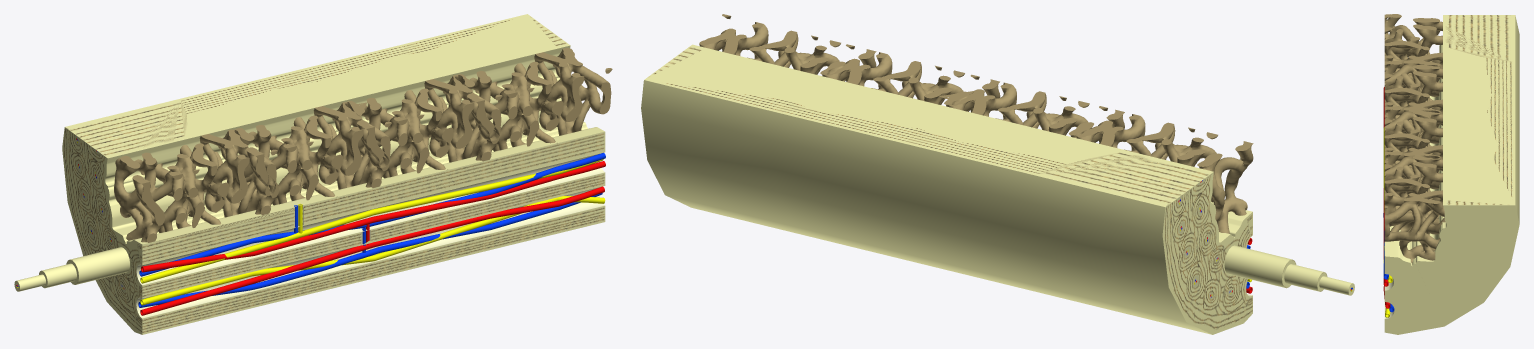
3 views of the same model, side by side, from view 1: azimuth 30°, elevation 25°; view 2: azimuth 150°, elevation 25°; view 3: azimuth 270°, elevation 25° (orthographic). The views are drawn at different scales.
Parts seen in each view (by area): view 1: Object_4, Object_9, Object_8, Object_10, Object_7, Object_3, Object_14, Object_15, Object_18, Object_5, Object_11, Object_17 (+1 smaller); view 2: Object_4, Object_9, Object_8, Object_10, Object_5; view 3: Object_4, Object_9, Object_8, Object_10, Object_15, Object_18.
Part boxes in pixels (box(x1,y1,x2,y2)): Object_4: box(62, 14, 605, 334); Object_9: box(121, 49, 608, 241); Object_8: box(120, 48, 612, 242); Object_10: box(114, 57, 581, 242); Object_7: box(136, 153, 604, 285); Object_3: box(136, 187, 604, 318); Object_14: box(140, 186, 604, 315); Object_15: box(141, 161, 605, 272); Object_18: box(140, 159, 603, 283); Object_5: box(14, 247, 129, 291); Object_11: box(138, 193, 602, 307); Object_17: box(140, 196, 605, 305); Object_4: box(641, 44, 1252, 334); Object_9: box(699, 16, 1253, 210); Object_8: box(699, 14, 1253, 166); Object_10: box(712, 26, 1252, 233); Object_5: box(1224, 245, 1354, 295); Object_4: box(1384, 15, 1519, 334); Object_9: box(1384, 17, 1445, 262); Object_8: box(1384, 14, 1442, 208); Object_10: box(1385, 17, 1442, 260); Object_15: box(1383, 87, 1388, 286); Object_18: box(1383, 127, 1392, 282).
Size of the model in its own units: 1528 by 391 by 371.
9 materials, 4 textured.
